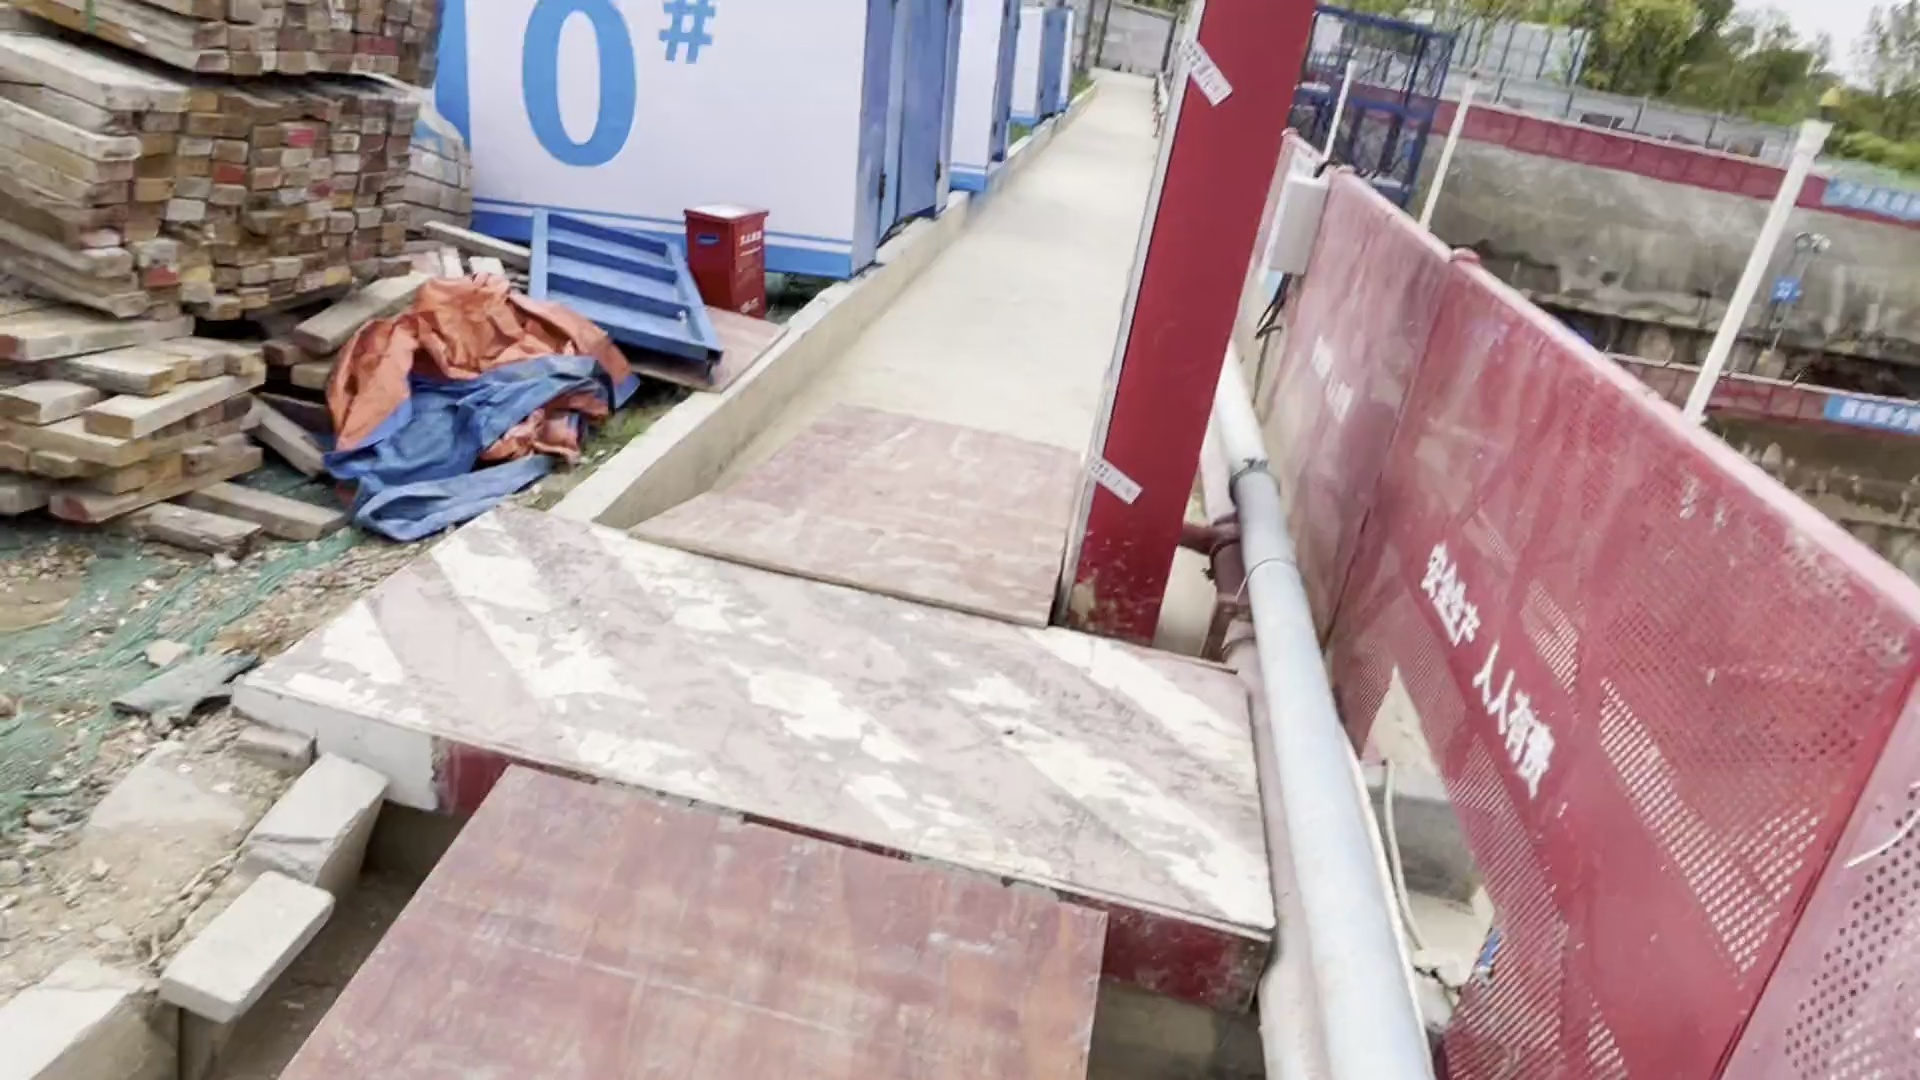board: (189, 446, 1073, 1075)
fence: (1333, 203, 1920, 1075)
wood: (7, 1, 458, 535)
